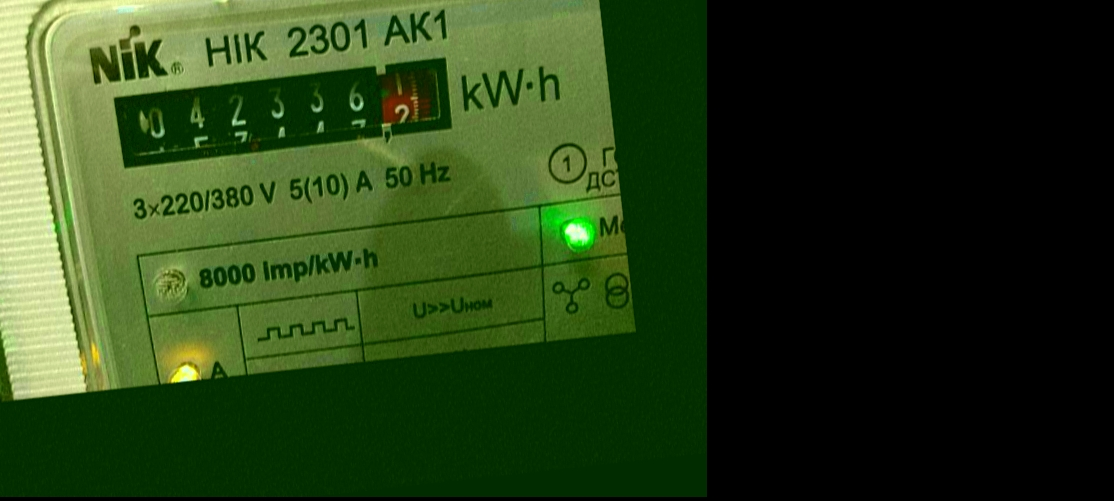0: (143, 103, 167, 140)
1: (389, 68, 405, 98)
2: (223, 91, 247, 128), (389, 101, 411, 124)
3: (264, 82, 287, 122), (301, 78, 325, 116)
4: (183, 92, 206, 131)
6: (340, 76, 366, 114)
screen: (103, 46, 463, 177)
